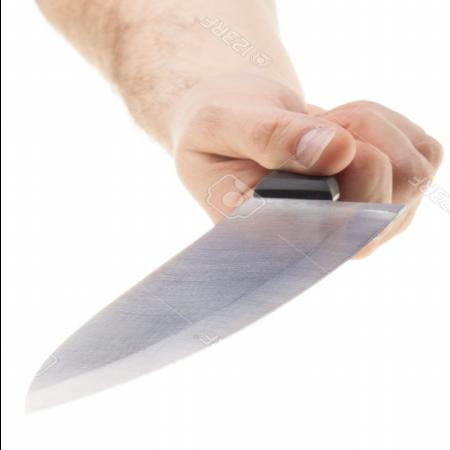long weapon: (13, 111, 425, 424)
